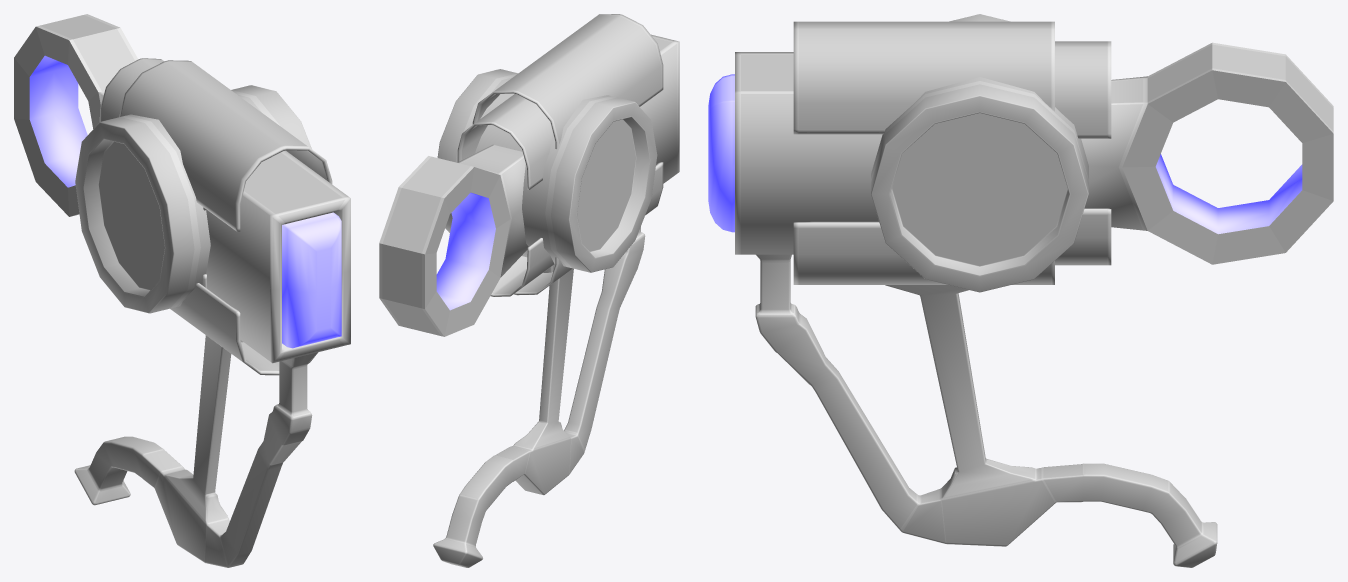
The model's file is Amber Pistol.fbx.
3 renders of one model, left to right at view 1: azimuth 30°, elevation 25°; view 2: azimuth 150°, elevation 25°; view 3: azimuth 270°, elevation 25°, orthographic. The views are drawn at different scales.
Parts seen in each view (by area): view 1: Amber Pistola, Pistola Amber Energy holder, Amber pistola cabo, Amber pistola shell.001, Amber pistola shell; view 2: Amber Pistola, Pistola Amber Energy holder, Amber pistola cabo, Amber pistola shell.001, Amber pistola shell; view 3: Amber Pistola, Pistola Amber Energy holder, Amber pistola cabo, Amber pistola shell.001, Amber pistola shell.
Part boxes in pixels (<box>): Amber Pistola: <box>14,14,350,363</box>; Pistola Amber Energy holder: <box>75,85,311,313</box>; Amber pistola cabo: <box>74,335,317,567</box>; Amber pistola shell.001: <box>119,60,332,375</box>; Amber pistola shell: <box>99,58,206,288</box>; Amber Pistola: <box>379,34,679,336</box>; Pistola Amber Energy holder: <box>437,69,657,272</box>; Amber pistola cabo: <box>433,227,645,567</box>; Amber pistola shell.001: <box>472,14,663,295</box>; Amber pistola shell: <box>457,94,554,296</box>; Amber Pistola: <box>708,42,1333,264</box>; Pistola Amber Energy holder: <box>871,14,1088,292</box>; Amber pistola cabo: <box>755,254,1217,567</box>; Amber pistola shell.001: <box>793,21,1054,284</box>; Amber pistola shell: <box>1055,41,1111,265</box>.
Size of the model in its own units: 0.4398 by 1.34 by 1.42.
